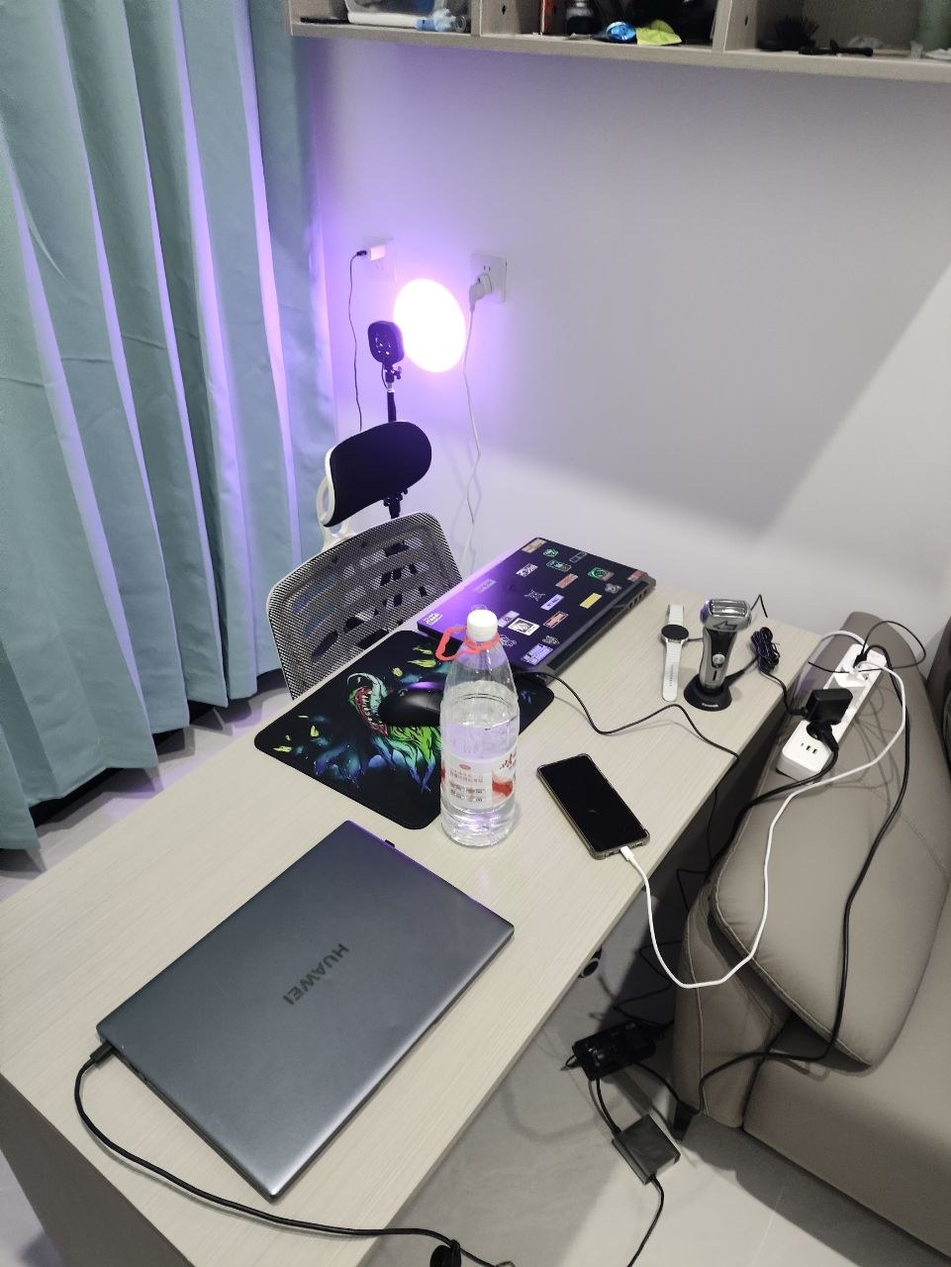cell phone: (536, 753, 650, 858)
laptop: (95, 818, 516, 1203), (416, 536, 655, 679)
